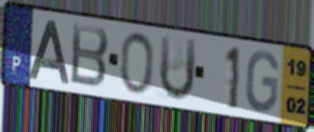1: (224, 44, 242, 111)
A: (26, 18, 71, 86)
B: (68, 21, 111, 91)
G: (243, 49, 281, 115)
O: (119, 30, 155, 97)
U: (157, 33, 199, 105)
